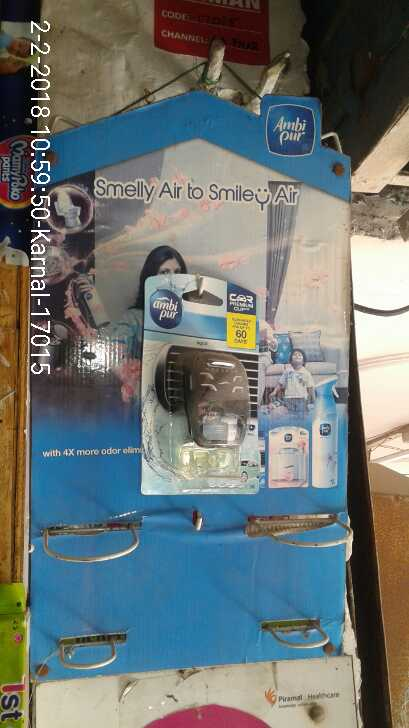home: (142, 270, 270, 489)
